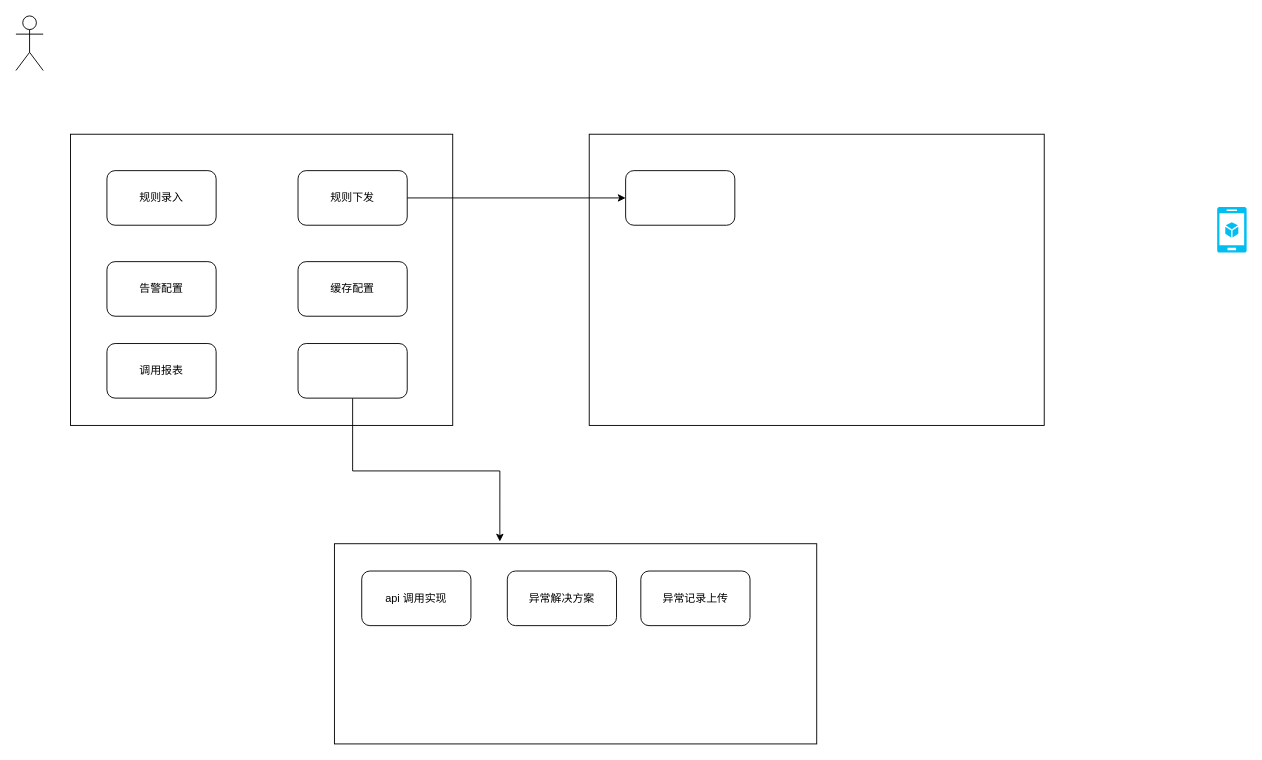
Image size: 1262x760. Some labels were removed from this diagram. Each missing label, with the centre of its shape:
Actor: (x=29, y=43)
api Unit: (x=352, y=370)
规则备份: (x=680, y=197)
